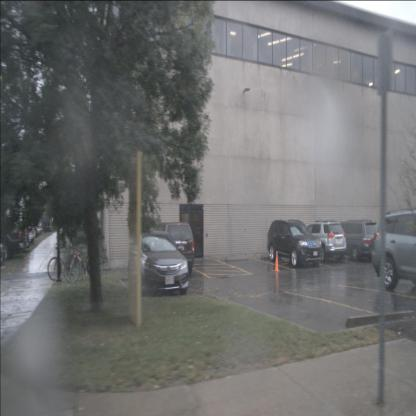movable_object-trafficcone: (273, 251, 281, 272)
vehicle-bicycle: (63, 243, 103, 283), (47, 241, 84, 282)
vehicle-car: (127, 230, 190, 296), (371, 209, 416, 291), (267, 219, 322, 268), (148, 222, 195, 276), (332, 219, 381, 262), (299, 221, 347, 261), (0, 212, 27, 264), (0, 214, 35, 244), (19, 206, 54, 234), (6, 210, 43, 236)
